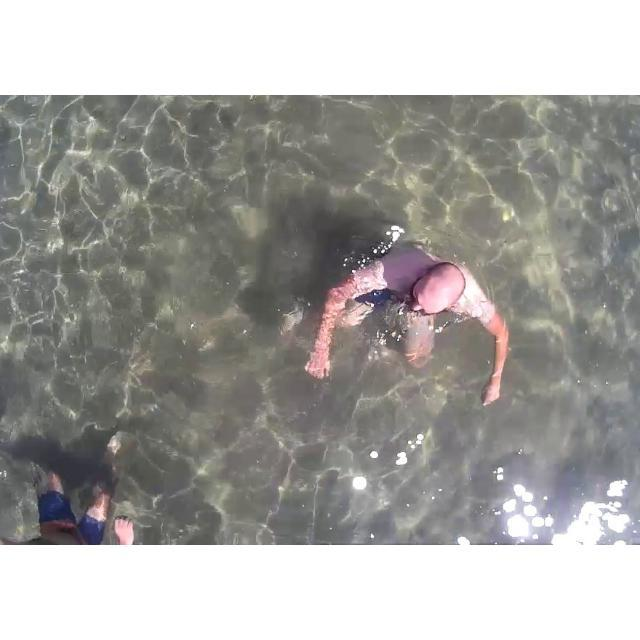human: (296, 222, 510, 409)
